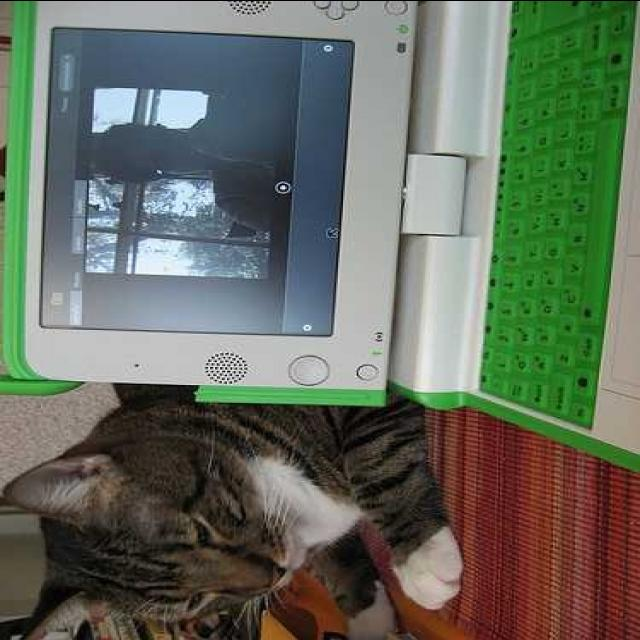laptop: (0, 1, 640, 458)
